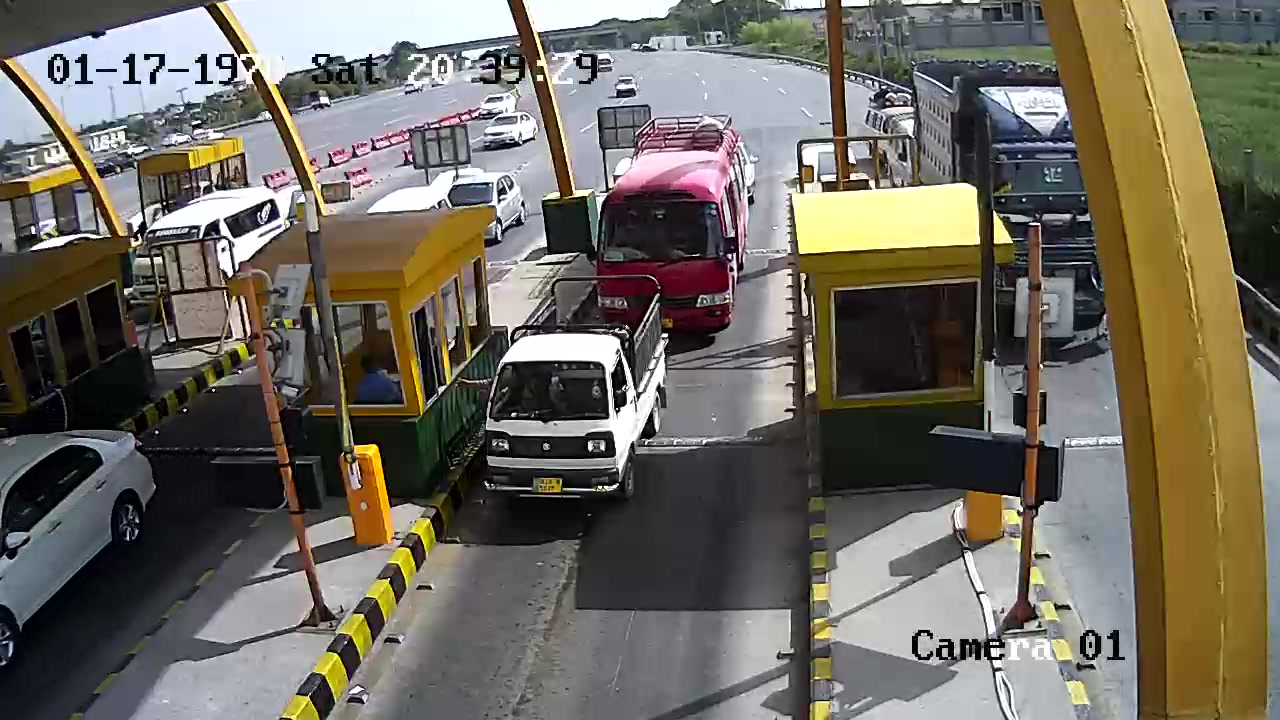F1: (477, 274, 685, 546)
F3: (582, 105, 774, 333)
